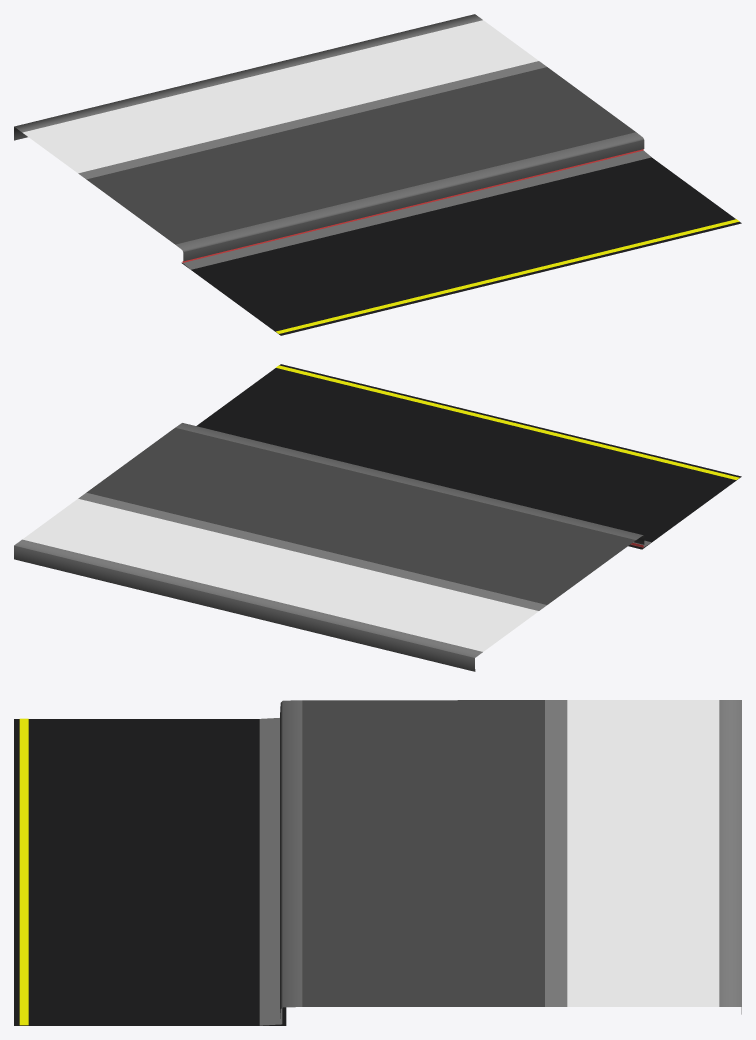
The picture shows the model from 3 angles, top to bottom: view 1: azimuth 30°, elevation 25°; view 2: azimuth 150°, elevation 25°; view 3: azimuth 270°, elevation 25°; orthographic projection. The views are drawn at different scales.
Parts seen in each view (by area): view 1: W_R_001_8x8_A_L2; view 2: W_R_001_8x8_A_L2; view 3: W_R_001_8x8_A_L2.
Boxes of the visible parts, x1,y1,x2,y2 form: W_R_001_8x8_A_L2: (14,14,741,335); W_R_001_8x8_A_L2: (14,364,741,671); W_R_001_8x8_A_L2: (14,700,741,1025).
Size of the model in its own units: 8 by 0.2313 by 8.02.
